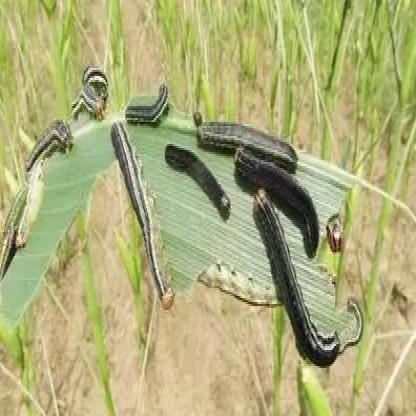armyworm: (249, 191, 342, 371), (108, 122, 177, 314), (229, 146, 322, 261), (165, 124, 231, 219), (197, 117, 303, 171), (24, 116, 74, 174), (123, 81, 172, 123), (337, 292, 363, 358), (4, 182, 31, 239), (67, 86, 102, 124), (1, 219, 19, 282), (82, 66, 107, 101)
